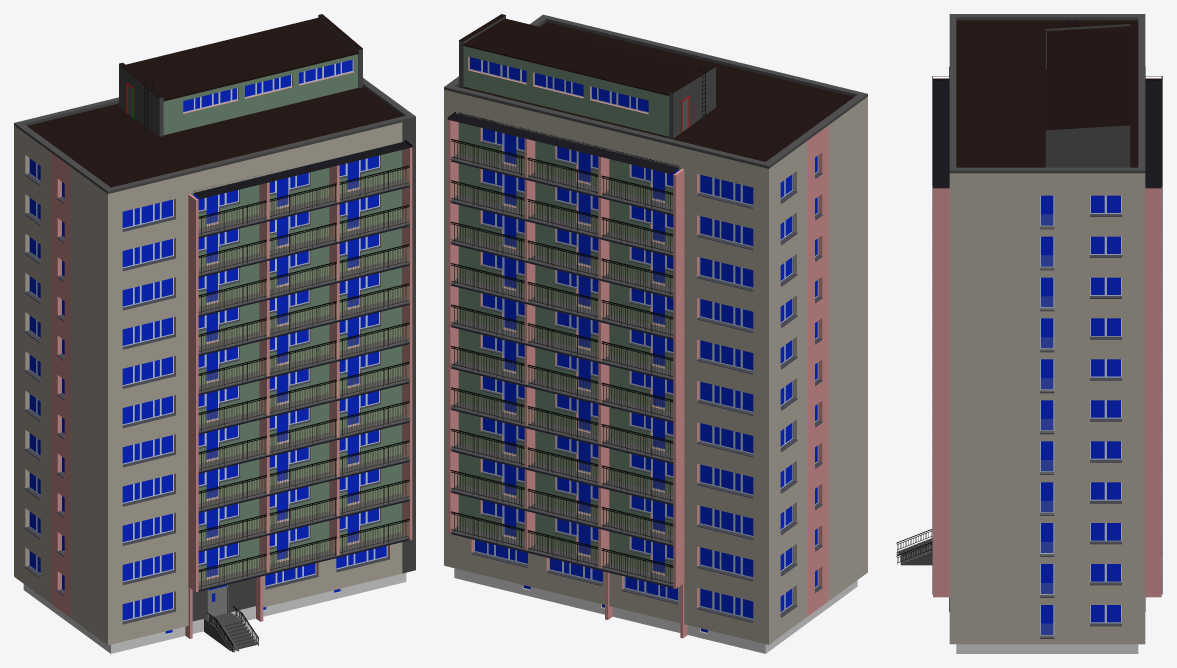
The model's file is Eastern European Building 015 3D Model Files.fbx.
The picture shows the model from 3 angles, left to right: view 1: azimuth 30°, elevation 25°; view 2: azimuth 150°, elevation 25°; view 3: azimuth 270°, elevation 25°; orthographic projection. The views are drawn at different scales.
Visible parts, largest first — view 1: o_concrete_01, o_concrete_03, o_transparent_balcony, o_glass, o_concrete_04, o_balcony_barriers, o_roof, o_sides, o_frames, o_concrete_02, o_balcony_base, o_base (+2 smaller); view 2: o_concrete_01, o_concrete_03, o_transparent_balcony, o_glass, o_concrete_04, o_sides, o_balcony_barriers, o_roof, o_frames, o_concrete_02, o_balcony_base, o_base; view 3: o_concrete_01, o_roof, o_concrete_04, o_glass, o_concrete_02, o_balcony_base, o_sides, o_frames, o_transparent_balcony, o_base, o_balcony_barriers.
Boxes of the visible parts, box(x1,y1,x2,y2) form: o_concrete_01: box(14, 122, 402, 645); o_concrete_03: box(160, 54, 401, 581); o_transparent_balcony: box(199, 168, 409, 588); o_glass: box(29, 60, 386, 633); o_concrete_04: box(50, 59, 412, 638); o_balcony_barriers: box(198, 165, 409, 652); o_roof: box(27, 14, 412, 198); o_sides: box(24, 167, 410, 624); o_frames: box(29, 59, 387, 621); o_concrete_02: box(14, 16, 415, 652); o_balcony_base: box(193, 140, 412, 591); o_base: box(23, 573, 406, 653); o_concrete_01: box(444, 89, 867, 644); o_concrete_03: box(458, 46, 681, 577); o_transparent_balcony: box(450, 141, 672, 584); o_glass: box(470, 57, 817, 632); o_concrete_04: box(448, 56, 828, 638); o_sides: box(449, 141, 822, 622); o_balcony_barriers: box(450, 139, 673, 584); o_roof: box(447, 14, 853, 173); o_frames: box(469, 57, 818, 619); o_concrete_02: box(444, 14, 867, 168); o_balcony_base: box(447, 112, 679, 588); o_base: box(454, 568, 857, 653); o_concrete_01: box(949, 173, 1145, 644); o_roof: box(932, 20, 1162, 186); o_concrete_04: box(933, 78, 1161, 597); o_glass: box(1041, 195, 1120, 634); o_concrete_02: box(896, 14, 1145, 565); o_balcony_base: box(933, 78, 1161, 188); o_sides: box(932, 67, 1162, 638); o_frames: box(1040, 195, 1121, 635); o_transparent_balcony: box(1040, 214, 1053, 637); o_base: box(956, 644, 1138, 653); o_balcony_barriers: box(896, 529, 932, 564).
Size of the model in its own units: 2472 by 3900 by 1768.
